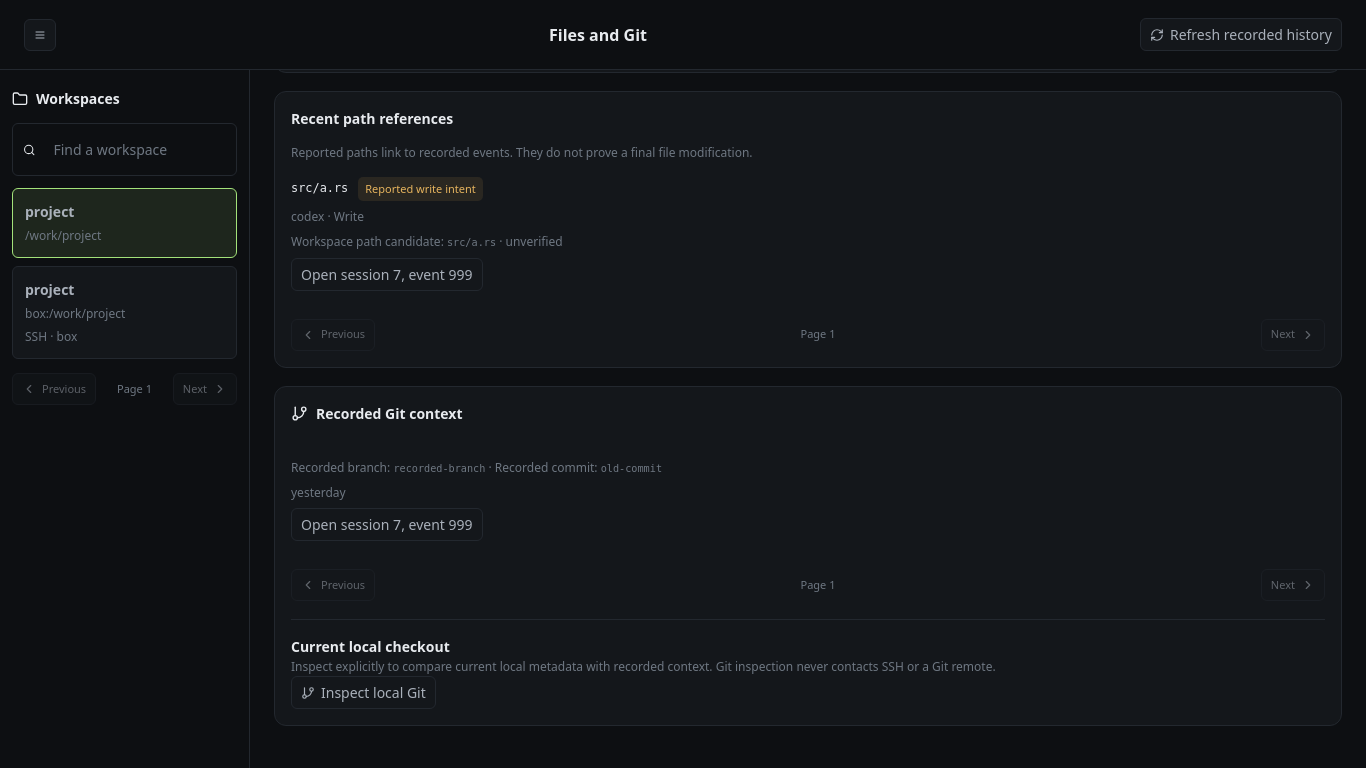
Test case: explicit Git inspection keeps recorded/current metadata distinct and shows bounds
(page scrolled)
Expected: the text "recorded-branch" is shown, [393,463,485,474]
What coordinates should you click on to do the following:
click the button "Inspect local Git"
I would click on:
 (363, 693)
Its box is [291,676,436,709].
(page scrolled)
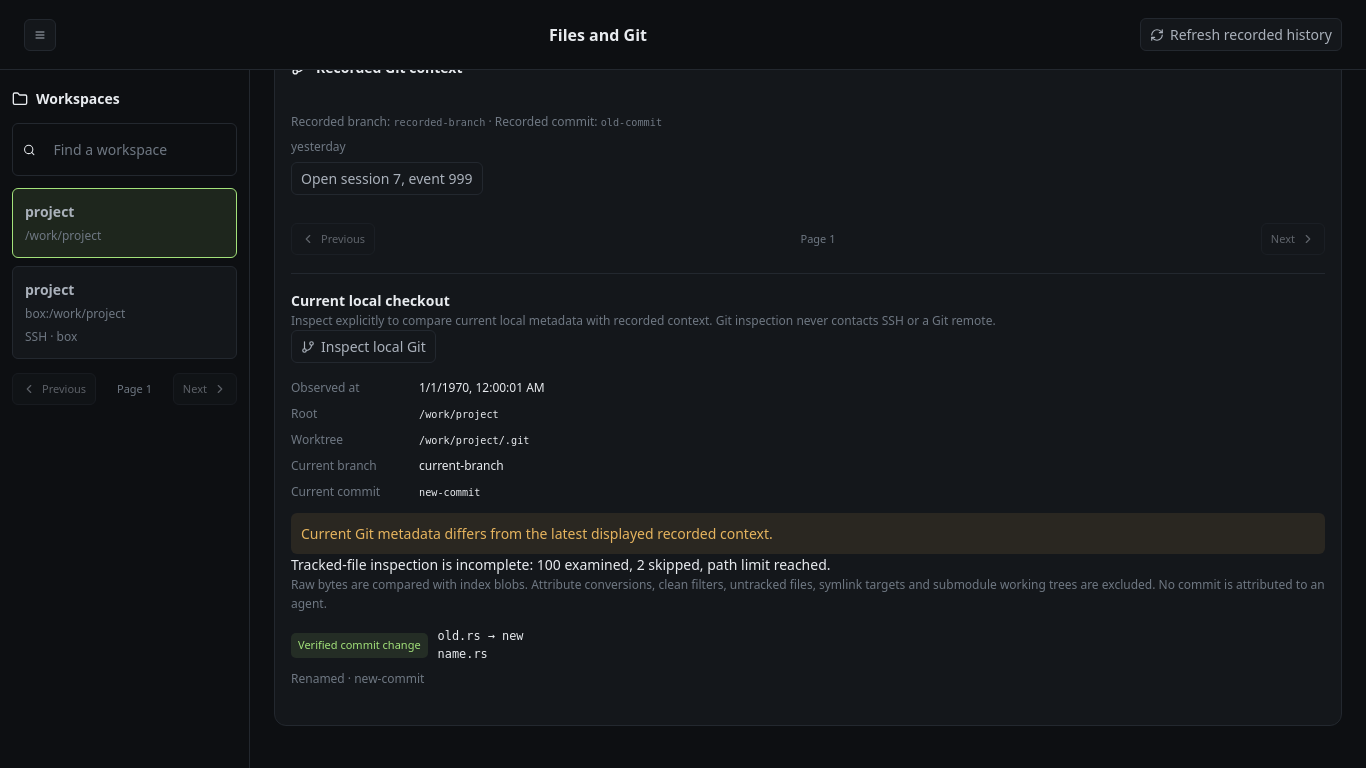
Expected: the text "current-branch" is shown, [419,457,504,474]
Expected: the text "Current Git metadata differs" is shown, [301,524,773,543]
Expected: the text "100 examined, 2 skipped, path limit reached" is shown, [291,555,830,574]
